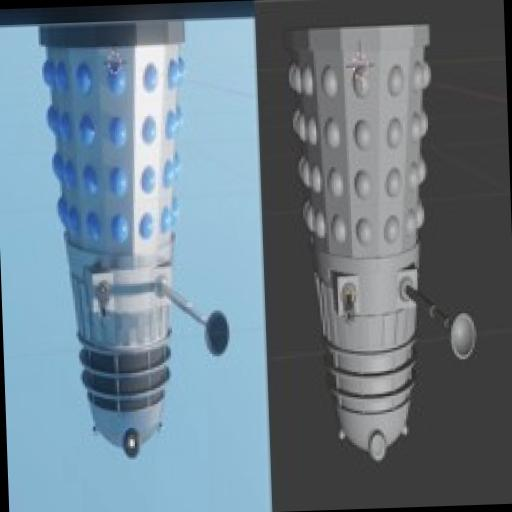dalek: (276, 15, 486, 466), (36, 18, 242, 464)
